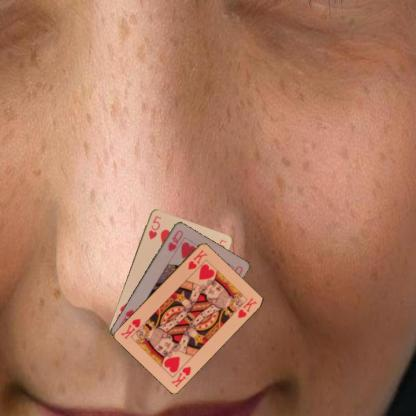5h: (146, 213, 162, 240)
Kh: (168, 364, 193, 388), (186, 248, 208, 270)
Qh: (165, 227, 185, 253)
